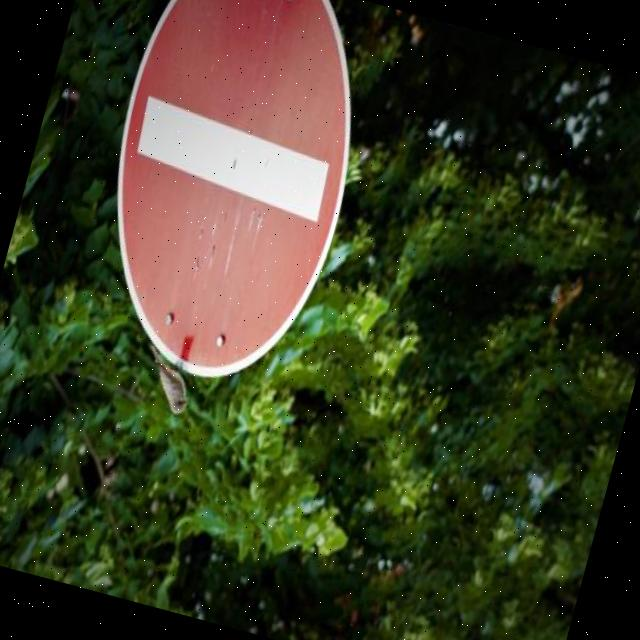do_not_enter: (58, 0, 405, 407)
